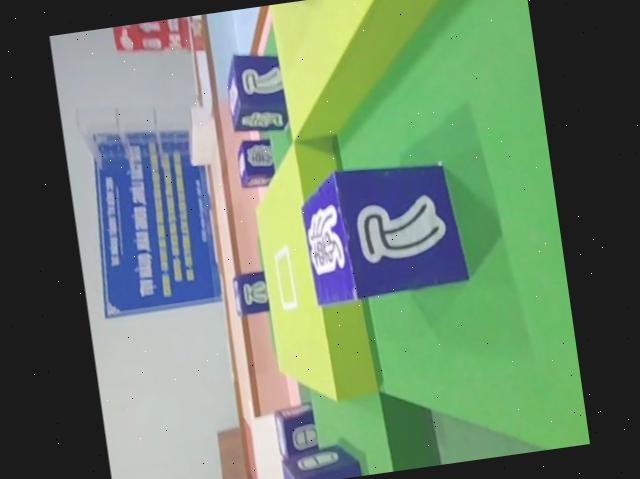R2 Fake Blue: (298, 155, 476, 307), (223, 50, 293, 138), (279, 440, 365, 479), (275, 400, 324, 463), (237, 134, 280, 188), (231, 268, 272, 316)
